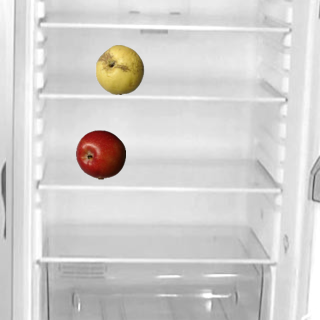Apple Braeburn: (75, 129, 125, 179)
Apple Golden 1: (94, 44, 144, 94)
